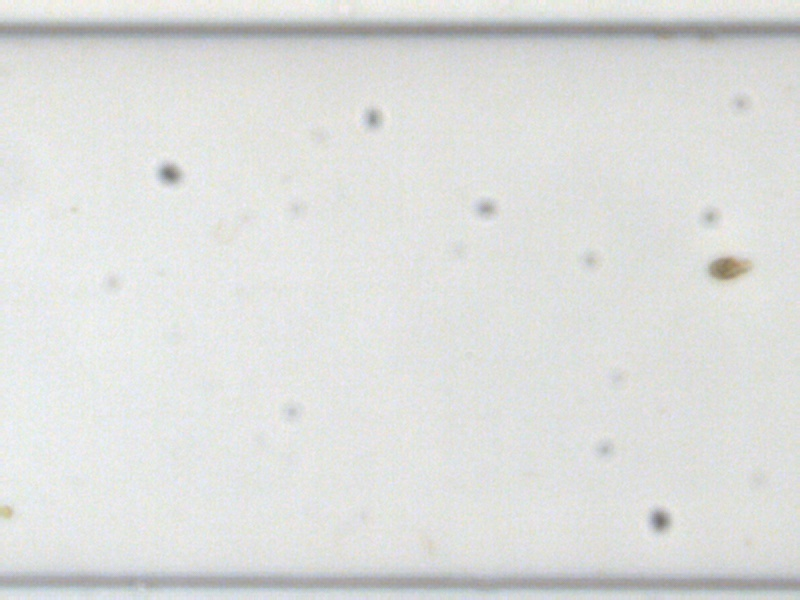Chlorella: (0, 501, 13, 519)
Dunaliella salina: (706, 251, 755, 282)
